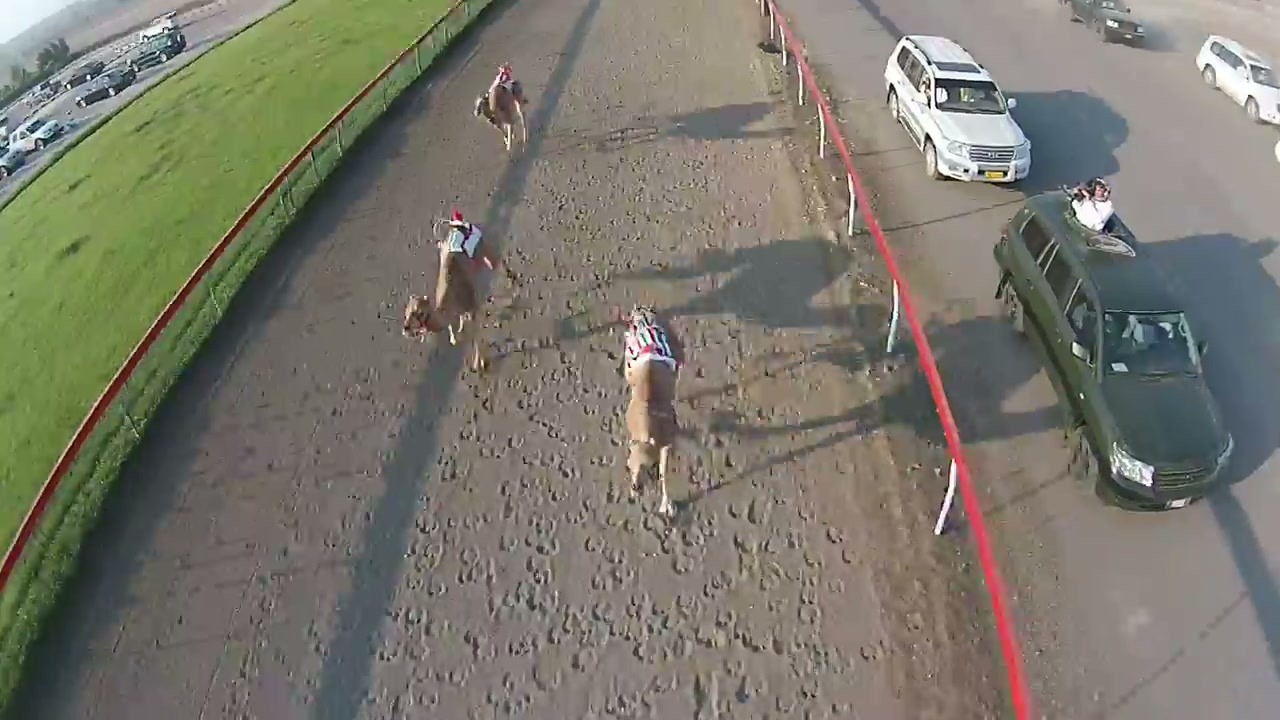animal_foot_print: (384, 150, 639, 708), (580, 260, 733, 689)
